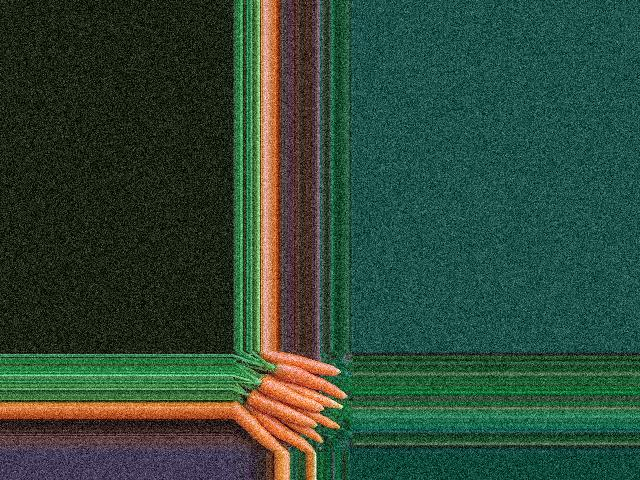carrot: (234, 396, 298, 454)
